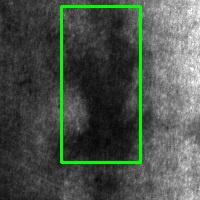patches: (61, 6, 140, 162)
